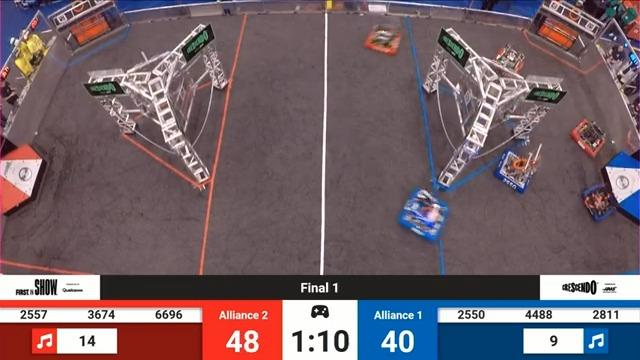robot: (396, 187, 450, 244), (494, 147, 537, 195), (570, 116, 607, 160), (580, 182, 617, 224), (362, 24, 402, 56), (494, 43, 526, 74)
